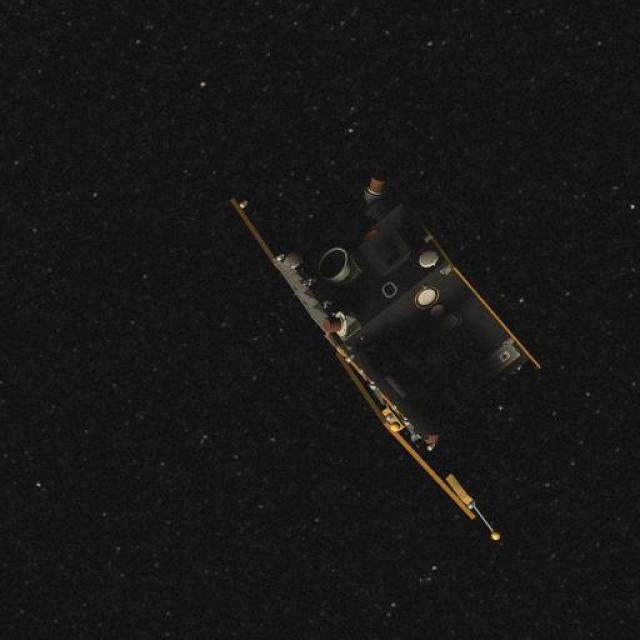proba_2: (198, 154, 564, 563)
